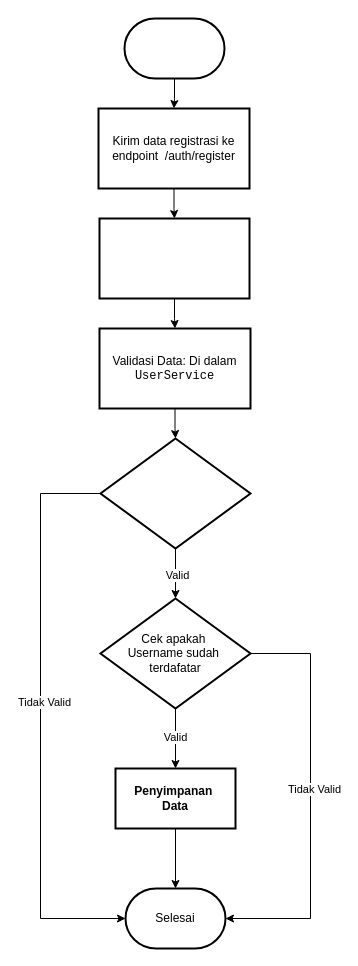
Image size: 358x966. Some labels were removed from this diagram. The box of each missing label's shape, as (x1, y1, x2, y2) in pixels:
AuthController menerima permintaan dan memanggil UserService: (98, 217, 250, 299)
Cek Kelengkapan Data: (99, 437, 251, 549)
Mulai: (123, 17, 225, 79)
